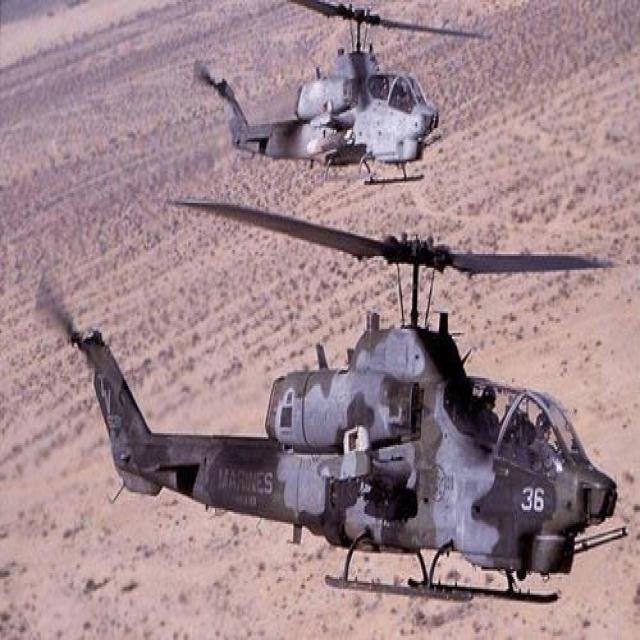MIL_HELO: (39, 193, 640, 606), (191, 0, 493, 185)
